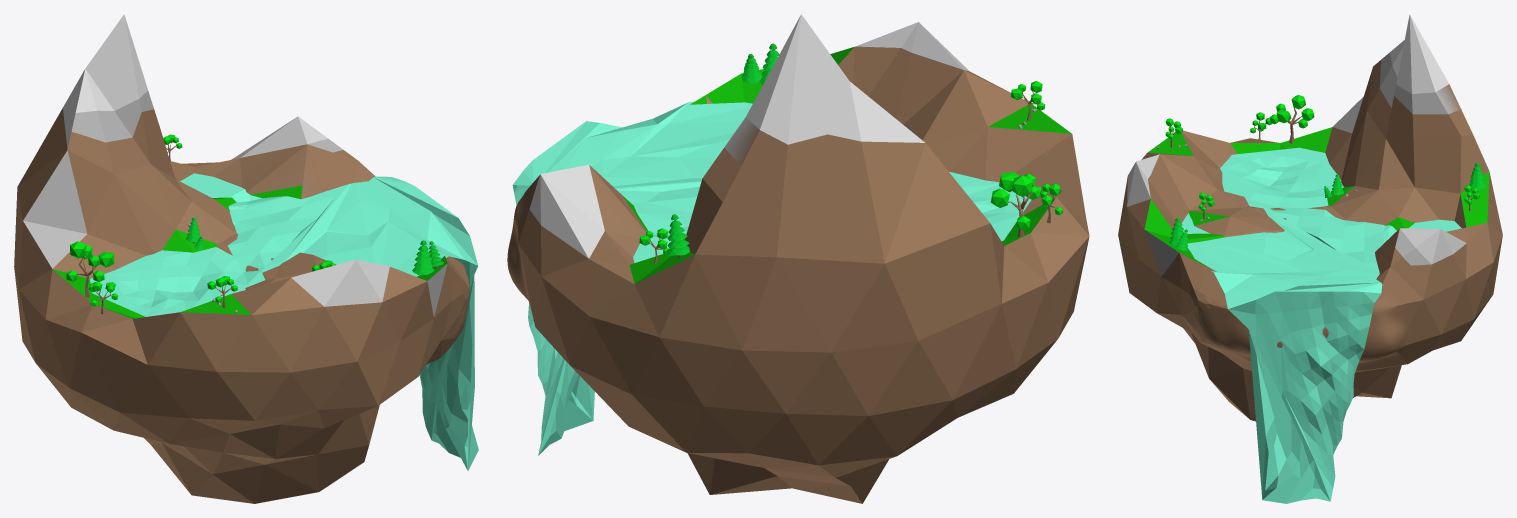
File: Low_Poly_Island_no_clouds.glb
3 renders of one model, left to right at view 1: azimuth 30°, elevation 25°; view 2: azimuth 150°, elevation 25°; view 3: azimuth 270°, elevation 25°, orthographic. The views are drawn at different scales.
Parts seen in each view (by area): view 1: Icosphere, Plane, Icosphere.001; view 2: Icosphere, Plane, Icosphere.001; view 3: Icosphere, Plane, Icosphere.001.
Part boxes in pixels (<box>): Icosphere: <box>14,90,469,503</box>; Plane: <box>89,173,478,470</box>; Icosphere.001: <box>63,14,147,149</box>; Icosphere: <box>507,22,1089,503</box>; Plane: <box>512,102,1031,455</box>; Icosphere.001: <box>746,14,924,144</box>; Icosphere: <box>1118,53,1502,421</box>; Plane: <box>1181,147,1461,503</box>; Icosphere.001: <box>1389,14,1448,94</box>.
Bounding box in the file's own units: 20.53 × 21.89 × 20.
